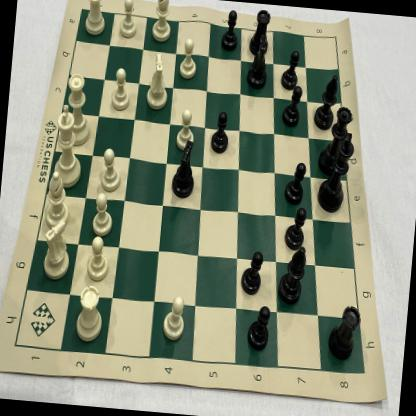bishop: (41, 168, 73, 231), (278, 244, 308, 306), (314, 72, 338, 131), (150, 0, 176, 43)
king: (48, 104, 86, 190), (317, 129, 356, 212)
knight: (39, 216, 73, 281), (168, 138, 199, 200), (144, 50, 173, 112), (246, 32, 270, 90)
pawn: (160, 293, 188, 342), (86, 234, 112, 283), (282, 160, 308, 208), (239, 250, 265, 298), (245, 304, 271, 352), (282, 208, 309, 252), (98, 148, 124, 192), (91, 191, 115, 238), (279, 86, 303, 128), (209, 110, 231, 155), (110, 68, 132, 112), (118, 0, 141, 41), (279, 49, 300, 93), (220, 9, 241, 52), (176, 107, 197, 149), (178, 38, 198, 81)
queen: (61, 71, 96, 147), (322, 104, 354, 170)
rook: (326, 304, 362, 363), (74, 283, 106, 342), (248, 5, 272, 58), (81, 0, 110, 38)
